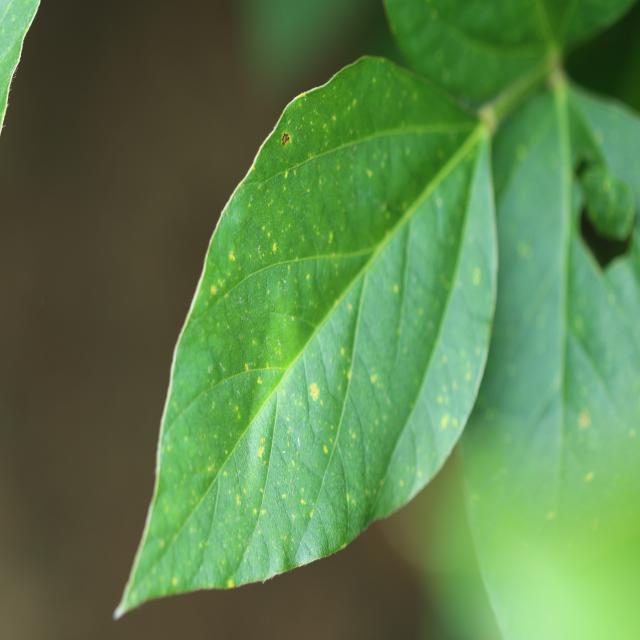Soybean: (112, 0, 640, 640)
downey_mildew: (233, 177, 437, 565), (268, 102, 470, 270), (479, 151, 563, 451), (124, 399, 243, 600), (167, 260, 314, 419), (363, 248, 486, 407), (207, 174, 344, 306), (171, 366, 285, 503), (411, 266, 489, 461), (569, 244, 639, 443), (157, 247, 218, 468), (323, 311, 381, 532), (486, 86, 571, 233), (253, 386, 320, 571), (445, 144, 499, 358), (349, 233, 410, 410), (267, 297, 354, 407), (290, 118, 456, 173), (259, 250, 350, 340), (291, 318, 344, 472), (265, 217, 422, 267), (297, 423, 351, 567), (374, 395, 433, 525), (119, 506, 186, 607), (509, 364, 569, 469), (431, 1, 542, 53), (209, 193, 275, 273), (0, 0, 43, 117), (186, 507, 245, 590), (550, 1, 639, 52), (192, 367, 284, 411), (234, 410, 274, 506), (250, 312, 317, 368), (238, 496, 279, 582), (351, 119, 470, 145), (390, 2, 432, 37), (295, 362, 312, 441), (206, 342, 224, 376)
